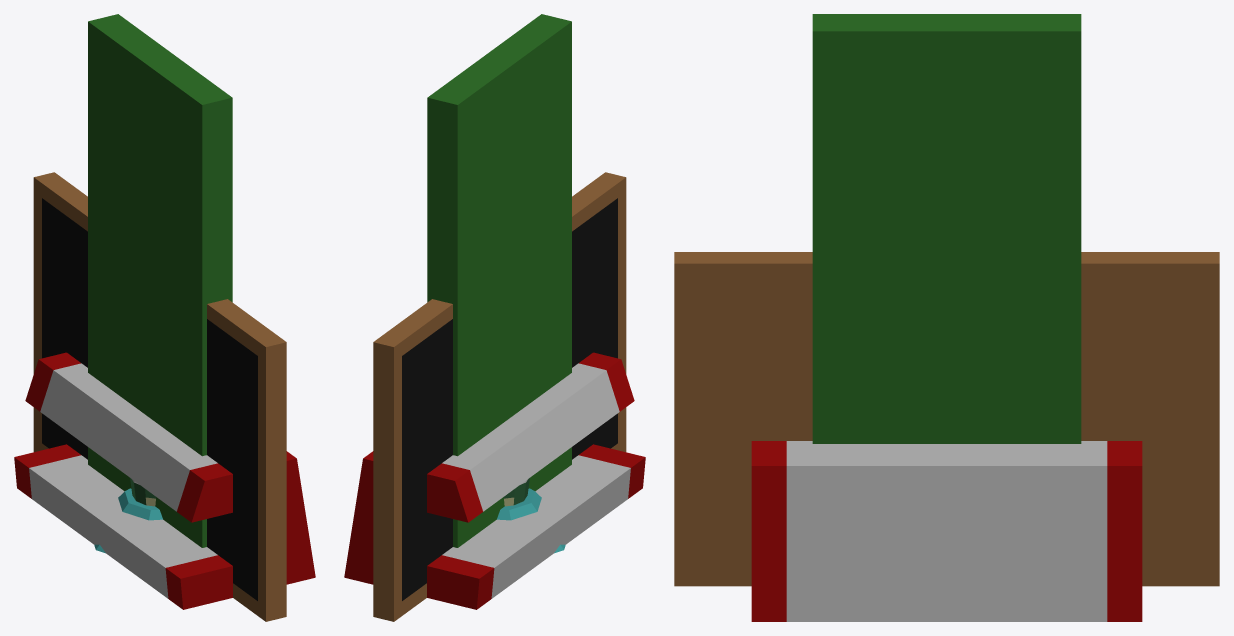
File: props.FBX
3 renders of one model, left to right at view 1: azimuth 30°, elevation 25°; view 2: azimuth 150°, elevation 25°; view 3: azimuth 270°, elevation 25°, orthographic. The views are drawn at different scales.
Visible parts, largest first — view 1: Door2, Door, BlackBoard, CoffeeMachine, LampShade; view 2: Door, BlackBoard, CoffeeMachine, Door2, LampShade; view 3: Door2, BlackBoard, Door, CoffeeMachine.
Boxes of the visible parts, x1,y1,x2,y2 form: Door2: (88, 22, 202, 547); Door: (88, 14, 232, 547); BlackBoard: (33, 172, 286, 621); CoffeeMachine: (14, 352, 315, 609); LampShade: (94, 488, 162, 553); Door: (427, 14, 571, 547); BlackBoard: (373, 172, 626, 621); CoffeeMachine: (344, 352, 645, 609); Door2: (457, 23, 571, 547); LampShade: (497, 488, 565, 553); Door2: (812, 31, 1081, 443); BlackBoard: (674, 252, 1219, 586); Door: (812, 14, 1081, 443); CoffeeMachine: (751, 441, 1142, 621).
Bounding box in the file's own units: 29.78 × 100 × 87.54.
